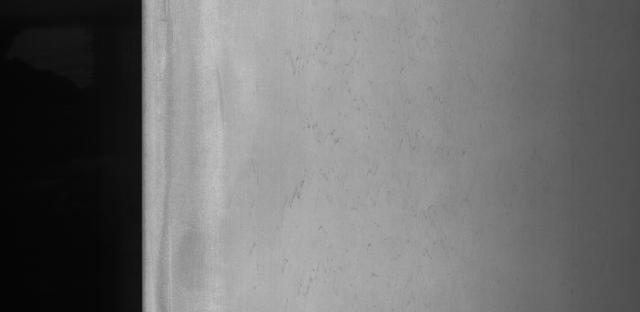silk_spot: (272, 24, 402, 241)
